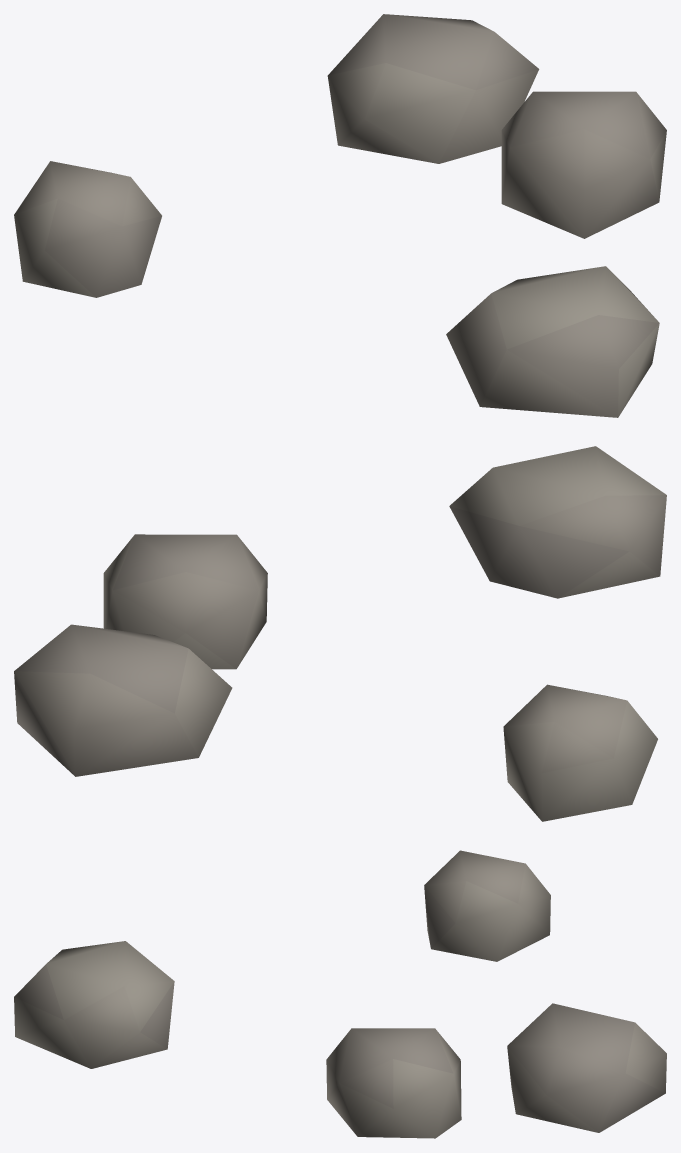
File: SM_Stone_02.fbx
3 views of the same model, one above another, from view 1: azimuth 30°, elevation 25°; view 2: azimuth 150°, elevation 25°; view 3: azimuth 270°, elevation 25° (orthographic). The views are drawn at different scales.
Parts seen in each view (by area): view 1: SM_Stone_02; view 2: SM_Stone_02; view 3: SM_Stone_02.
Boxes of the visible parts, x1=… form: SM_Stone_02: x1=14, y1=14, x2=666, y2=417; SM_Stone_02: x1=14, y1=446, x2=666, y2=821; SM_Stone_02: x1=14, y1=850, x2=666, y2=1138.
Bounding box in the file's own units: 38.3 × 5.9 × 45.09.
1 material, 1 textured.
